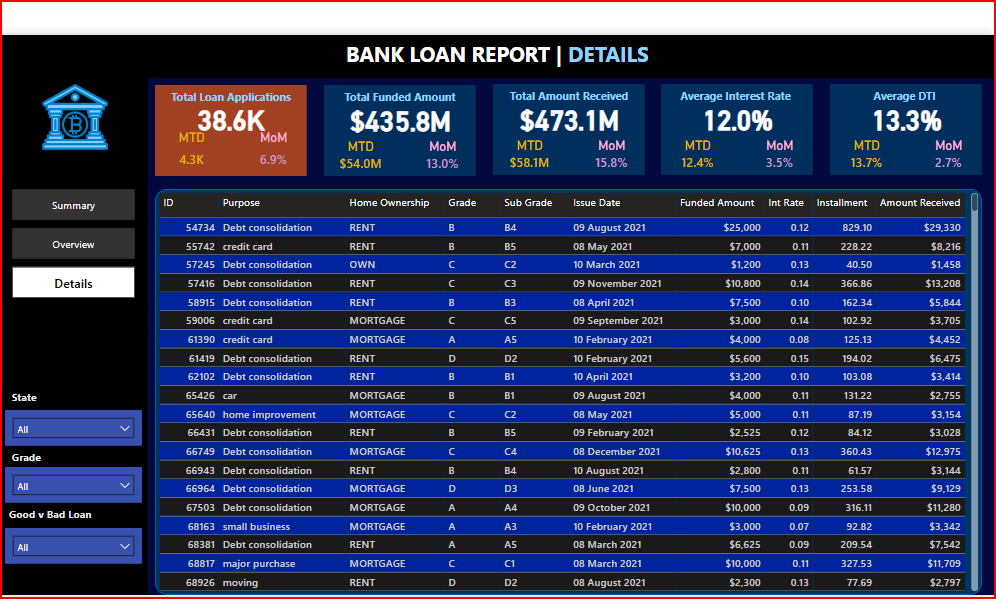

Layout of this report page (visuals, bound fields, positions):
{"tool":"powerbi","page":{"name":"Details","canvas":[1280,720],"ordinal":2},"visuals":[{"type":"shape","box":[0,0,1280,55],"z":0},{"type":"shape","box":[0,55.3,191.5,664.4],"z":1000},{"type":"textbox","box":[440.8,1.3,448.5,50.1],"z":2000},{"type":"shape","box":[634.5,63,195.3,116.9],"z":3000,"group":"g3"},{"type":"shape","box":[851.2,63,195.3,116.9],"z":3000,"group":"g4"},{"type":"shape","box":[1068,63,195.3,116.9],"z":3000,"group":"g5"},{"type":"group","id":"g1","title":"Group 1","box":[200,64.3,195.8,116.9],"z":3000},{"type":"shape","box":[200.4,64.3,195.3,116.9],"z":3000,"group":"g1"},{"type":"shape","box":[417.2,64.3,195.3,116.9],"z":3000,"group":"g2"},{"type":"group","id":"g2","title":"Group 1","box":[417.2,64.3,195.9,116.9],"z":4000},{"type":"card","fields":{"Values":["financial_loan.Total Amount Received"]},"box":[636.4,80.7,194.1,52.7],"z":4000,"group":"g3"},{"type":"card","fields":{"Values":["financial_loan.Avg Interest Rate"]},"box":[853.1,80.7,194.1,52.7],"z":4000,"group":"g4"},{"type":"card","fields":{"Values":["financial_loan.Avg DTI"]},"box":[1069.9,80.7,194.1,52.7],"z":4000,"group":"g5"},{"type":"card","fields":{"Values":["financial_loan.Total Loan Applications"]},"box":[200,82,195.3,50.1],"z":4000,"group":"g1"},{"type":"card","fields":{"Values":["financial_loan.Total Funded Amount"]},"box":[419.1,82,194.1,52.7],"z":4000,"group":"g2"},{"type":"textbox","box":[634.5,63,195.3,36],"z":5000,"group":"g3"},{"type":"textbox","box":[851.2,63,195.3,36],"z":5000,"group":"g4"},{"type":"textbox","box":[1068,63,195.3,36],"z":5000,"group":"g5"},{"type":"textbox","box":[200.4,64.3,195.3,36],"z":5000,"group":"g1"},{"type":"textbox","box":[417.2,64.3,195.3,36],"z":5000,"group":"g2"},{"type":"shape","box":[200.5,197.9,1062.8,521.8],"z":5000},{"type":"group","id":"g3","title":"Group 1","box":[634.5,63,195.3,116.9],"z":6000},{"type":"card","title":"MTD","fields":{"Values":["financial_loan.MTD Loan Applications"]},"box":[214.1,121.8,65.5,59.1],"z":6000,"group":"g1"},{"type":"card","title":"MTD","fields":{"Values":["financial_loan.MTD Total Amount Recieved"]},"box":[649.2,132.1,65.5,47.6],"z":6000,"group":"g3"},{"type":"card","title":"MTD","fields":{"Values":["financial_loan.MTD Avg Int Rate"]},"box":[865.9,132.1,65.5,47.6],"z":6000,"group":"g4"},{"type":"card","title":"MTD","fields":{"Values":["financial_loan.MTD Avg DTI"]},"box":[1082.7,132.1,65.5,47.6],"z":6000,"group":"g5"},{"type":"card","title":"MTD","fields":{"Values":["financial_loan.MTD Funded Amount"]},"box":[431.9,133.4,65.5,47.6],"z":6000,"group":"g2"},{"type":"group","id":"g4","title":"Group 1","box":[851.2,63,195.3,116.9],"z":7000},{"type":"card","title":"MoM","fields":{"Values":["financial_loan.MoM Loan Applications"]},"box":[319.5,121.8,65.5,59.1],"z":7000,"group":"g1"},{"type":"card","title":"MoM","fields":{"Values":["financial_loan.MoM Total  Amount Received"]},"box":[754.6,132.1,65.5,47.6],"z":7000,"group":"g3"},{"type":"card","title":"MoM","fields":{"Values":["financial_loan.MoM Avg Int Rate"]},"box":[971.3,132.1,65.5,47.6],"z":7000,"group":"g4"},{"type":"card","title":"MoM","fields":{"Values":["financial_loan.MoM Avg DTI"]},"box":[1188.1,132.1,65.5,47.6],"z":7000,"group":"g5"},{"type":"card","title":"MoM","fields":{"Values":["financial_loan.MoM Total Funded Amount"]},"box":[537.3,133.4,65.5,47.6],"z":7000,"group":"g2"},{"type":"group","id":"g5","title":"Group 1","box":[1068,63,195.3,116.9],"z":8000},{"type":"slicer","fields":{"Values":["financial_loan.address_state"]},"box":[7.7,481.9,176.1,46.3],"z":9000},{"type":"textbox","box":[7.7,451.1,64.3,30.8],"z":10000},{"type":"slicer","fields":{"Values":["financial_loan.grade"]},"box":[7.7,555.2,176.1,46.3],"z":11000},{"type":"textbox","box":[7.7,528.2,64.3,27],"z":12000},{"type":"slicer","fields":{"Values":["financial_loan.Good vs Bad Loan"]},"box":[7.7,633.6,176.1,46.3],"z":13000},{"type":"textbox","box":[7.7,601.4,128.5,32.1],"z":14000},{"type":"tableEx","fields":{"Values":["financial_loan.id","financial_loan.purpose","financial_loan.home_ownership","financial_loan.grade","financial_loan.sub_grade","financial_loan.issue_date","financial_loan.Total Funded Amount","Sum(financial_loan.int_rate)","Sum(financial_loan.installment)","financial_loan.Total Amount Received"]},"box":[200.5,197.9,1062.8,521.8],"z":17001},{"type":"image","box":[21.8,55.3,152.9,100.2],"z":17002},{"type":"pageNavigator","box":[16.7,197.9,158.1,140.1],"z":17003}]}

Visuals, with their boxes on the page's 1280x720 design canvas (x1, y1, x2, y2). These are canvas units, not pixel positions in the 996x599 screenshot, which may show the page scaled, cropped or inside an application window:
shape: box(0, 0, 1280, 55)
shape: box(0, 55, 192, 720)
textbox: box(441, 1, 889, 51)
shape: box(634, 63, 830, 180)
shape: box(851, 63, 1046, 180)
shape: box(1068, 63, 1263, 180)
"Group 1" group: box(200, 64, 396, 181)
shape: box(200, 64, 396, 181)
shape: box(417, 64, 612, 181)
"Group 1" group: box(417, 64, 613, 181)
card - financial_loan.Total Amount Received: box(636, 81, 830, 133)
card - financial_loan.Avg Interest Rate: box(853, 81, 1047, 133)
card - financial_loan.Avg DTI: box(1070, 81, 1264, 133)
card - financial_loan.Total Loan Applications: box(200, 82, 395, 132)
card - financial_loan.Total Funded Amount: box(419, 82, 613, 135)
textbox: box(634, 63, 830, 99)
textbox: box(851, 63, 1046, 99)
textbox: box(1068, 63, 1263, 99)
textbox: box(200, 64, 396, 100)
textbox: box(417, 64, 612, 100)
shape: box(200, 198, 1263, 720)
"Group 1" group: box(634, 63, 830, 180)
"MTD" card: box(214, 122, 280, 181)
"MTD" card: box(649, 132, 715, 180)
"MTD" card: box(866, 132, 931, 180)
"MTD" card: box(1083, 132, 1148, 180)
"MTD" card: box(432, 133, 497, 181)
"Group 1" group: box(851, 63, 1046, 180)
"MoM" card: box(320, 122, 385, 181)
"MoM" card: box(755, 132, 820, 180)
"MoM" card: box(971, 132, 1037, 180)
"MoM" card: box(1188, 132, 1254, 180)
"MoM" card: box(537, 133, 603, 181)
"Group 1" group: box(1068, 63, 1263, 180)
slicer - financial_loan.address_state: box(8, 482, 184, 528)
textbox: box(8, 451, 72, 482)
slicer - financial_loan.grade: box(8, 555, 184, 602)
textbox: box(8, 528, 72, 555)
slicer - financial_loan.Good vs Bad Loan: box(8, 634, 184, 680)
textbox: box(8, 601, 136, 634)
tableEx - financial_loan.id x financial_loan.purpose: box(200, 198, 1263, 720)
image: box(22, 55, 175, 156)
pageNavigator: box(17, 198, 175, 338)
